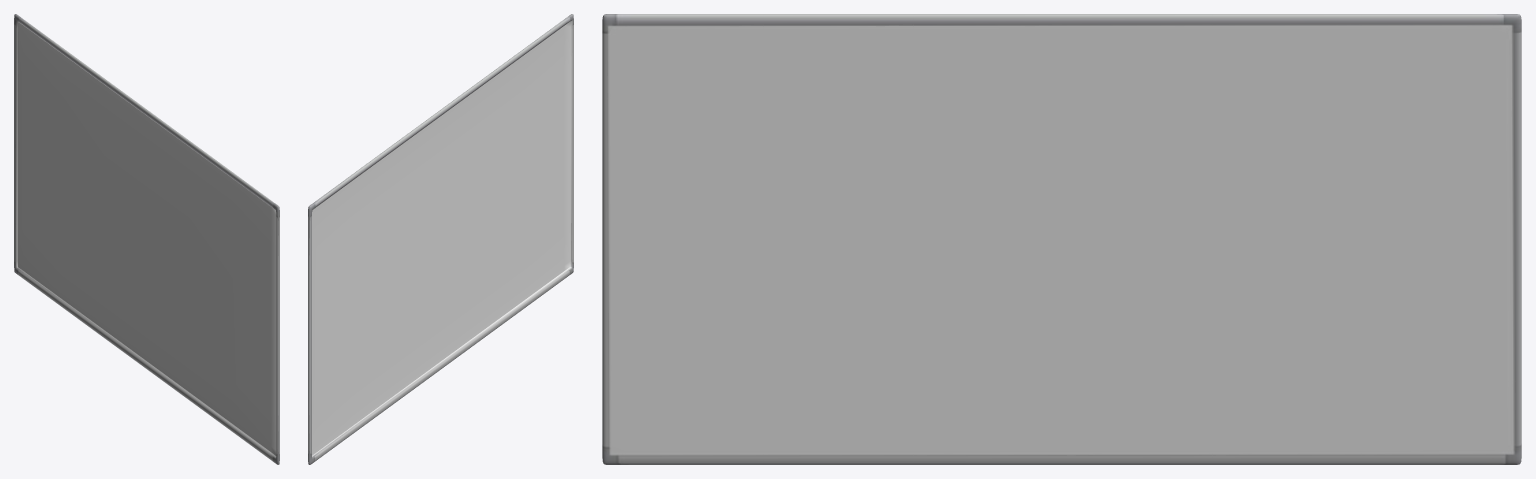
Rendered from Tableau.fbx.
3 views of the same model, side by side, from view 1: azimuth 30°, elevation 25°; view 2: azimuth 150°, elevation 25°; view 3: azimuth 270°, elevation 25° (orthographic). The views are drawn at different scales.
Visible parts, largest first — view 1: Plane.010; view 2: Plane.010; view 3: Plane.010.
Part boxes in pixels (x1,y1,x2,y2): Plane.010: [14, 14, 279, 464]; Plane.010: [308, 14, 573, 464]; Plane.010: [602, 14, 1521, 464].
Bounding box in the file's own units: 3.63 × 286 × 529.
1 material, 1 textured.
